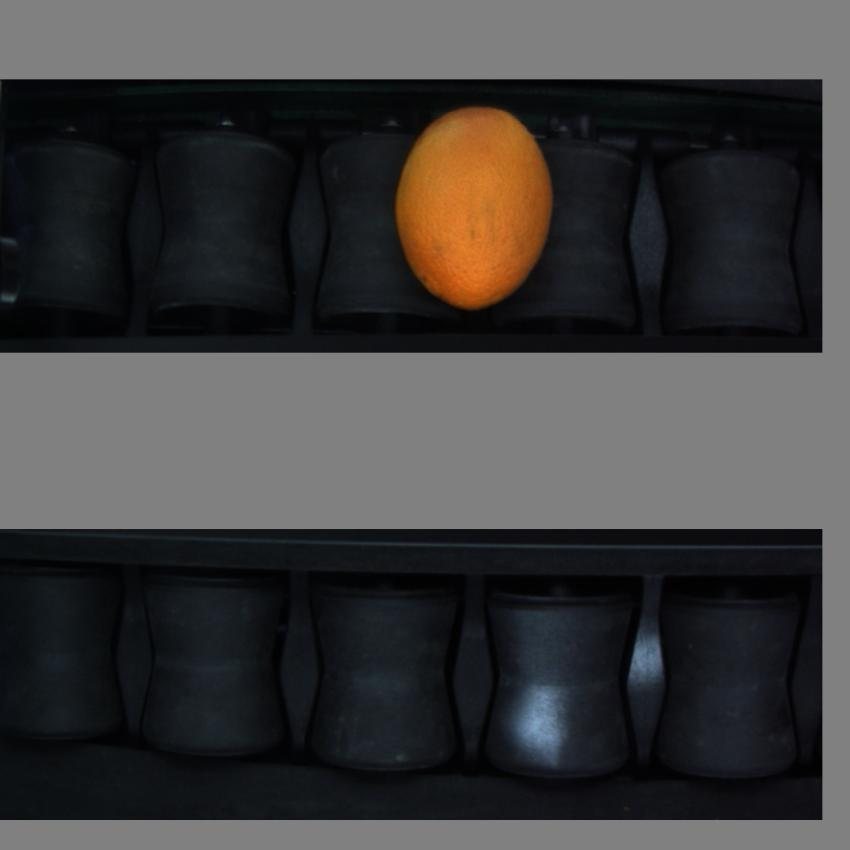Buen estado: (387, 103, 564, 319)
